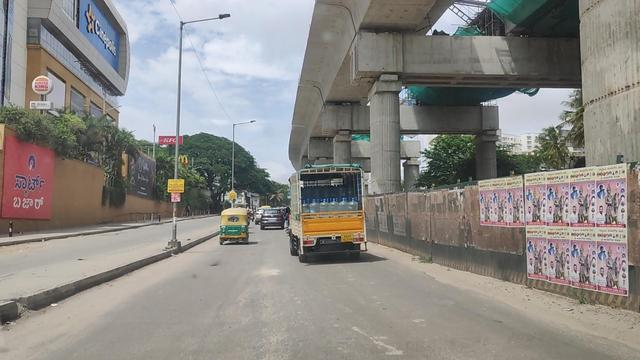HMV: (292, 160, 385, 269)
LMV: (216, 210, 249, 247)
RoadDamages: (350, 318, 409, 360)
